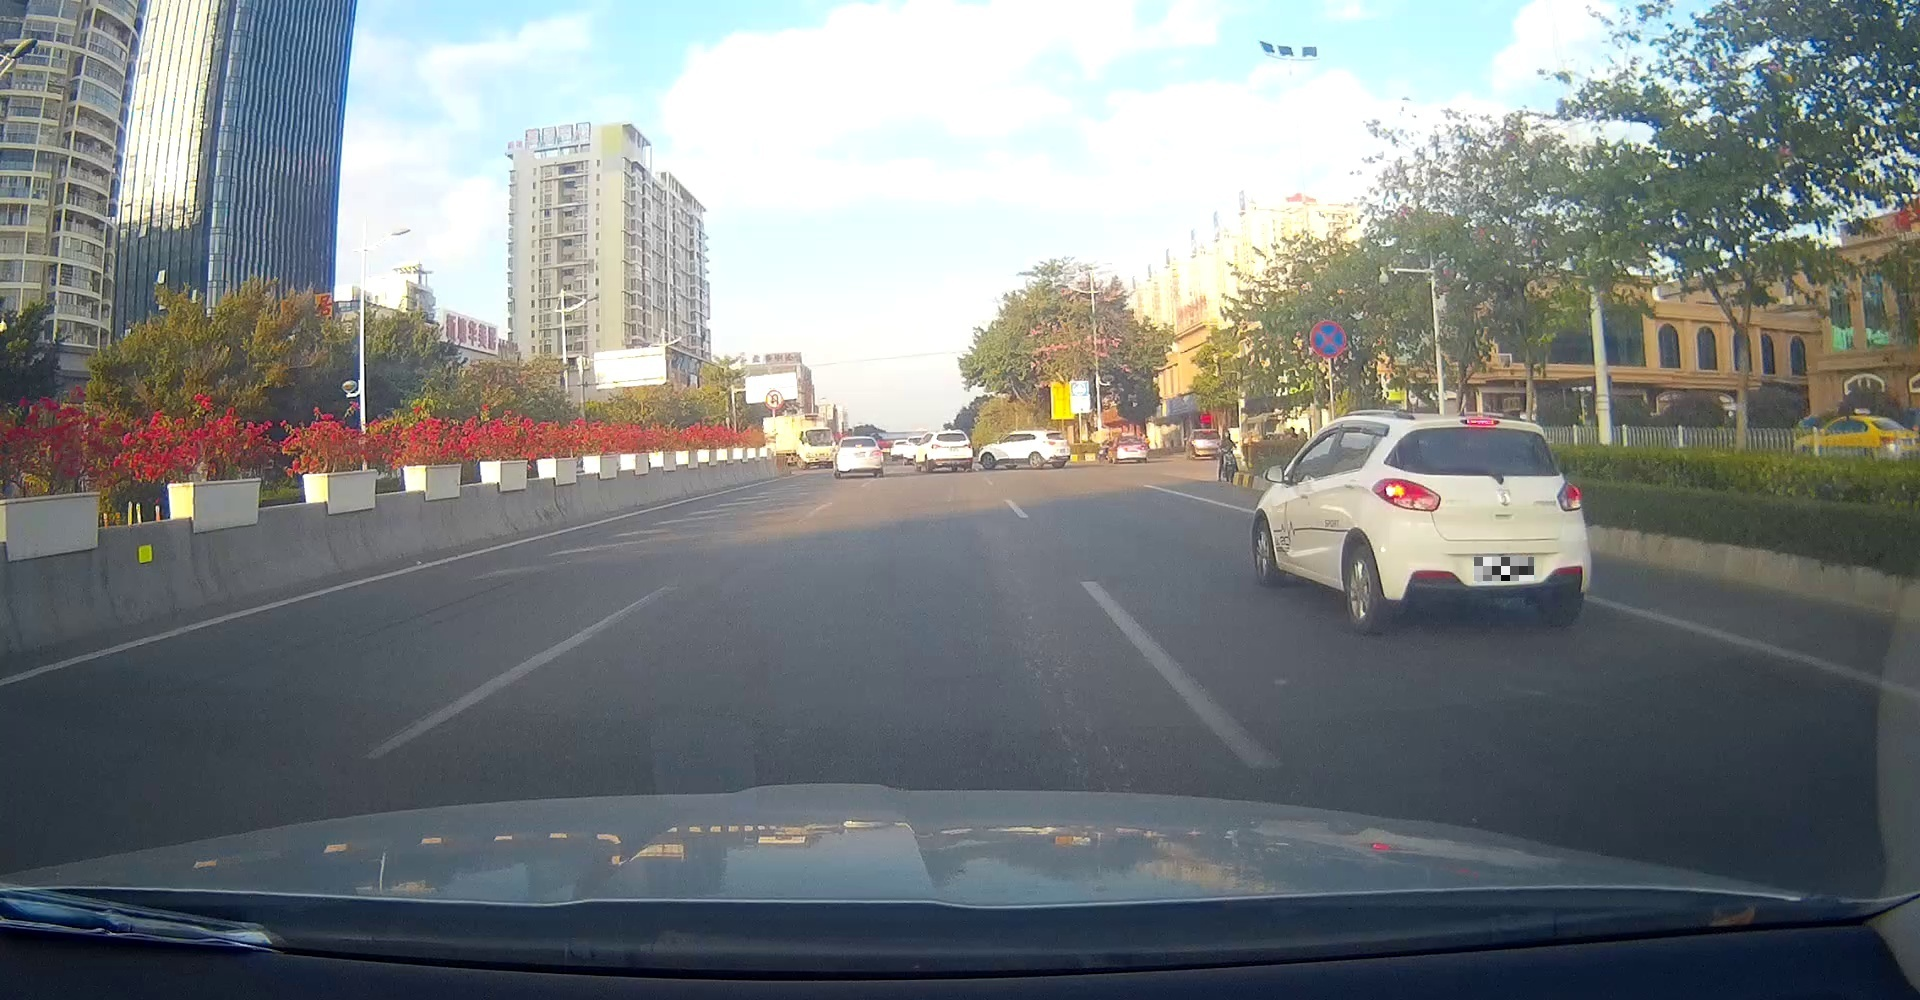L_light: (1371, 478, 1443, 511)
R_light: (1556, 478, 1583, 511)
T_light: (1459, 416, 1500, 426)
day-left: (1368, 412, 1592, 636)
plate_1: (1474, 557, 1534, 581)
